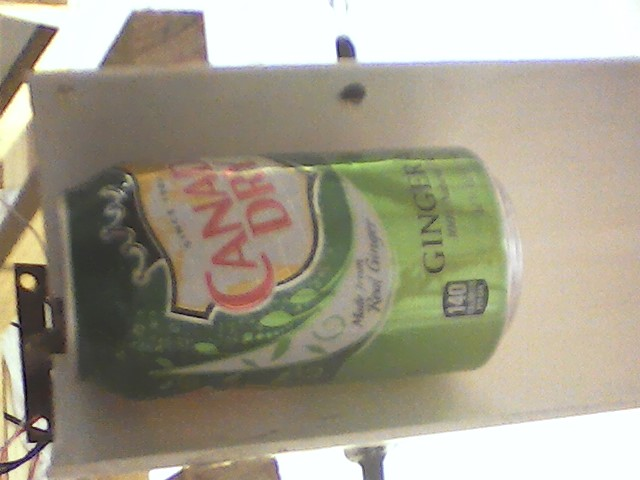lata: (53, 142, 532, 405)
